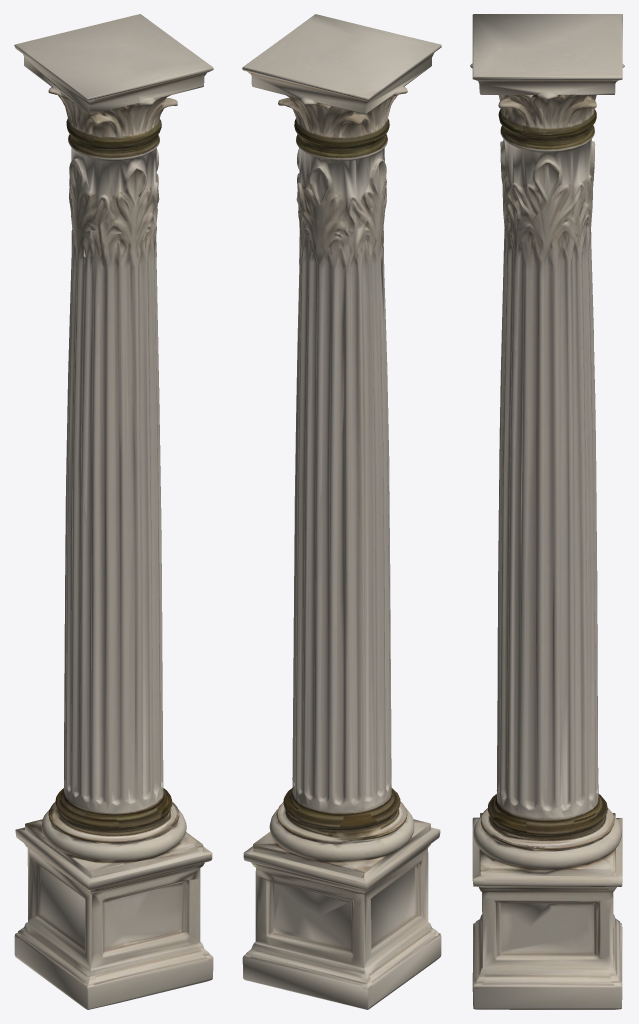
File: column-v1.glb
The picture shows the model from 3 angles, left to right: view 1: azimuth 30°, elevation 25°; view 2: azimuth 150°, elevation 25°; view 3: azimuth 270°, elevation 25°; orthographic projection. The views are drawn at different scales.
Parts seen in each view (by area): view 1: column metre normalization; view 2: column metre normalization; view 3: column metre normalization.
Part boxes in pixels (left/top/right/bottom): column metre normalization: left=14, top=14, right=213, bottom=1009; column metre normalization: left=242, top=14, right=441, bottom=1009; column metre normalization: left=470, top=14, right=624, bottom=1009.
Bounding box in the file's own units: 0.54 × 3.6 × 0.54.
1 material, 1 textured.
